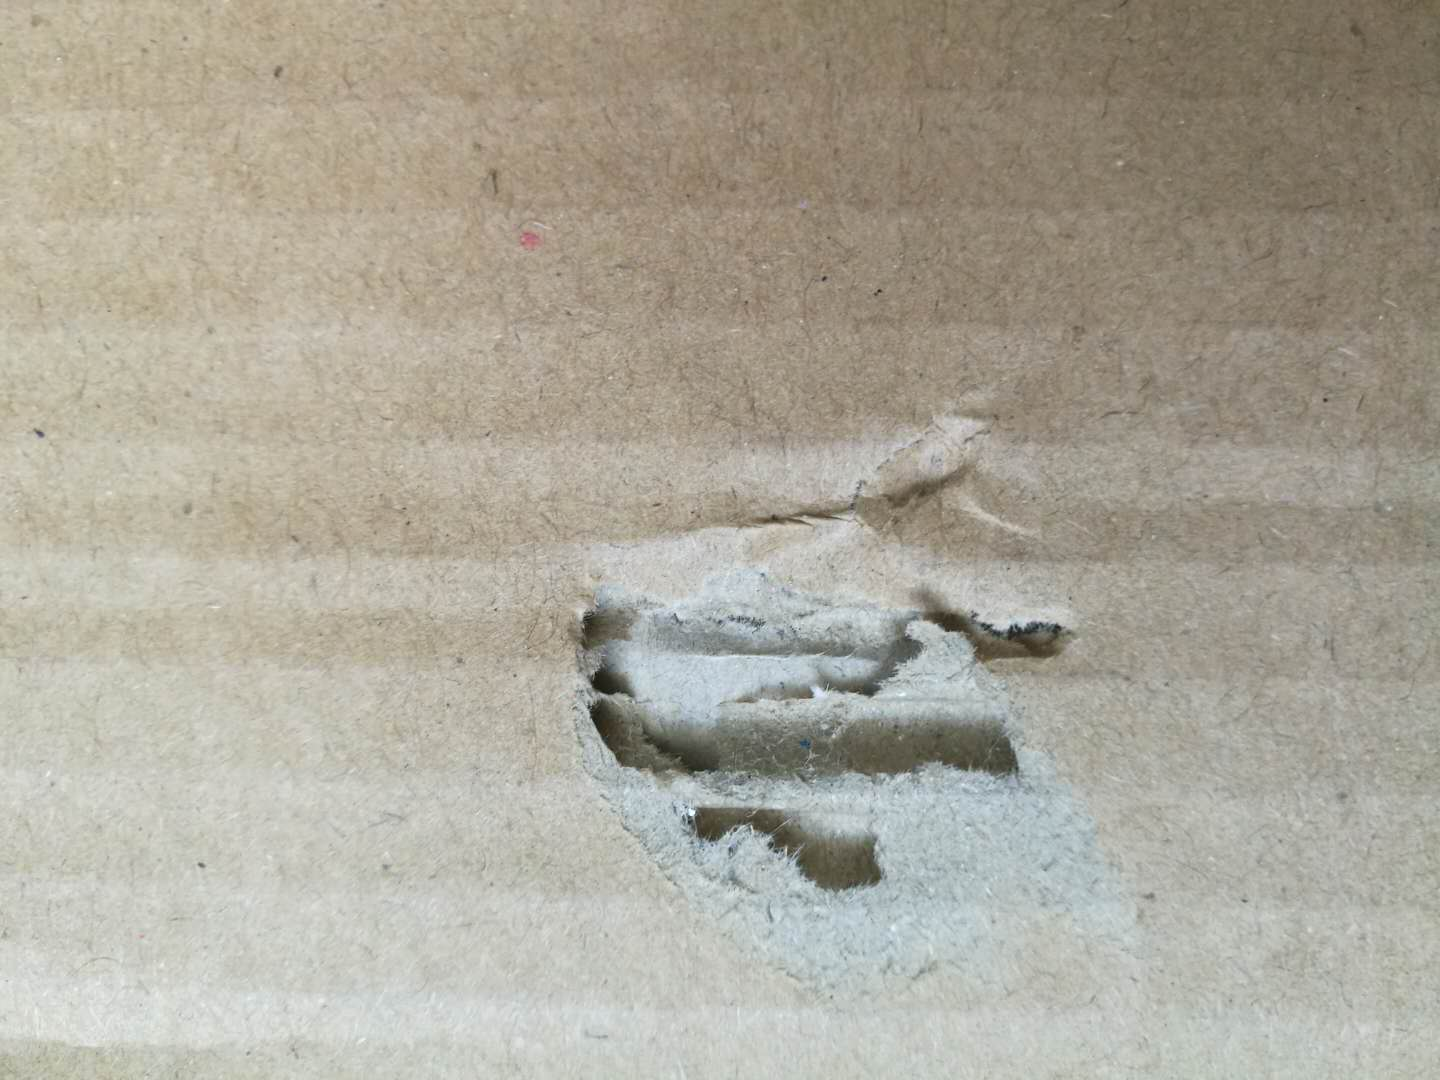defect: (503, 362, 1284, 1024)
